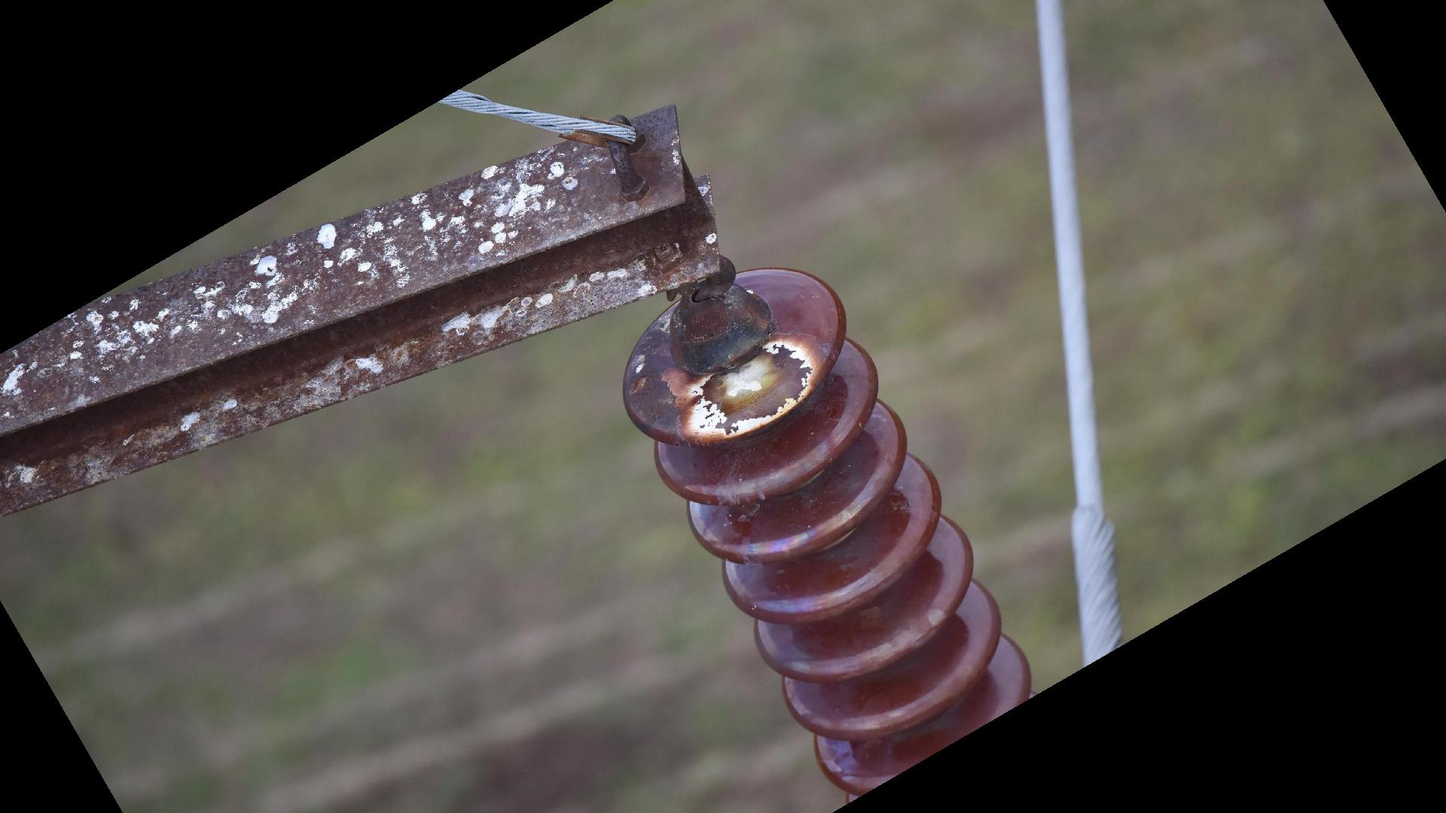insulator: (614, 262, 1040, 802)
insulator_flashover: (674, 331, 828, 444)
